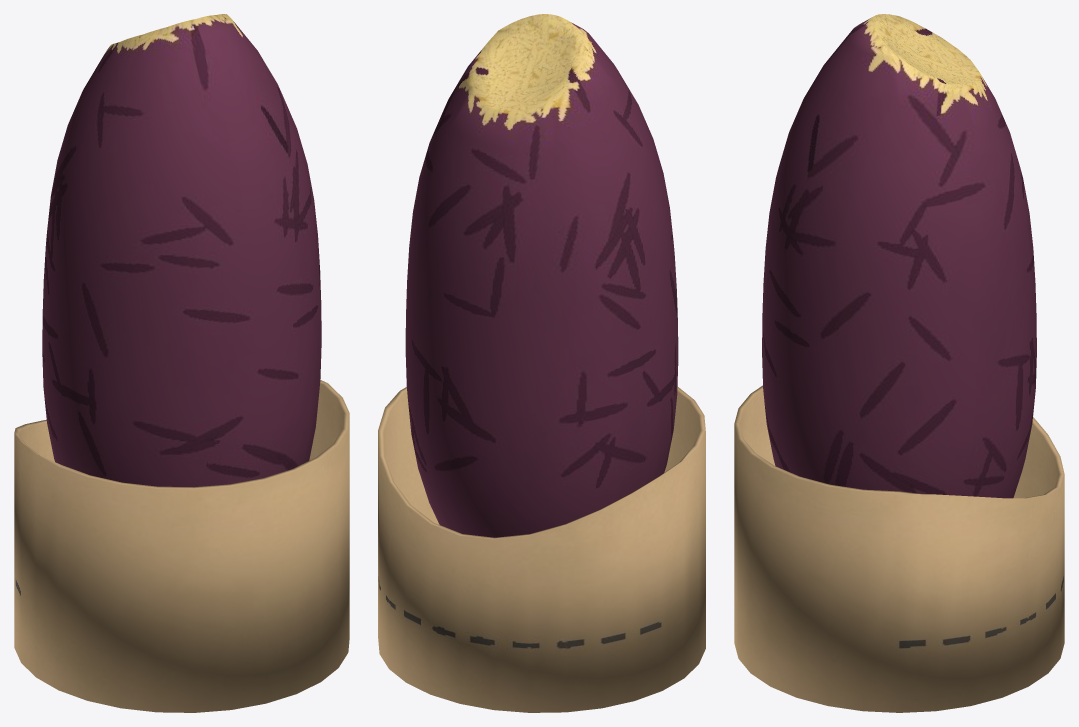
Rendered from yakiimo.glb.
The picture shows the model from 3 angles, left to right: view 1: azimuth 30°, elevation 25°; view 2: azimuth 150°, elevation 25°; view 3: azimuth 270°, elevation 25°; orthographic projection. The views are drawn at different scales.
Parts seen in each view (by area): view 1: prop_yakiimo_felt; view 2: prop_yakiimo_felt; view 3: prop_yakiimo_felt.
Part boxes in pixels (box(x1,y1,x2,y2)): prop_yakiimo_felt: box(14, 14, 349, 712); prop_yakiimo_felt: box(378, 14, 705, 712); prop_yakiimo_felt: box(734, 14, 1064, 712).
Size of the model in its own units: 0.1065 by 0.2212 by 0.1065.
1 material, 1 textured.
